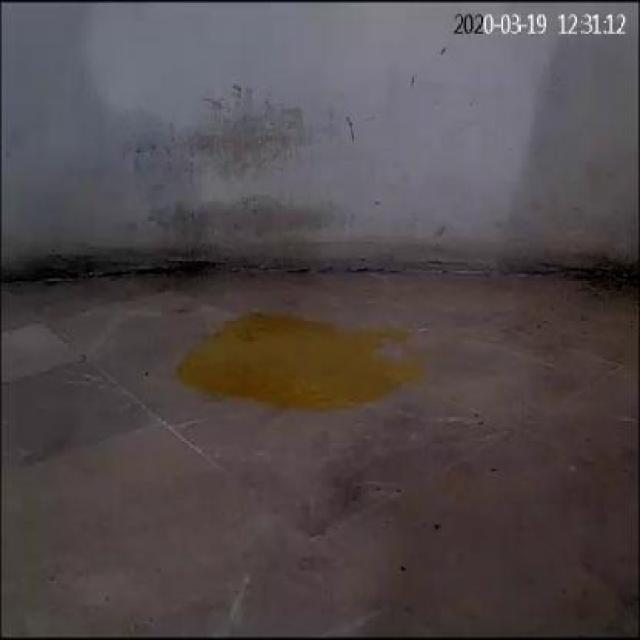spill: (169, 309, 425, 411)
